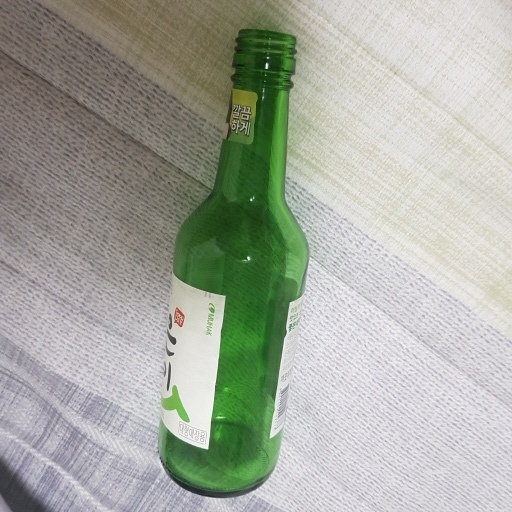Glass_0: (157, 22, 310, 498)
